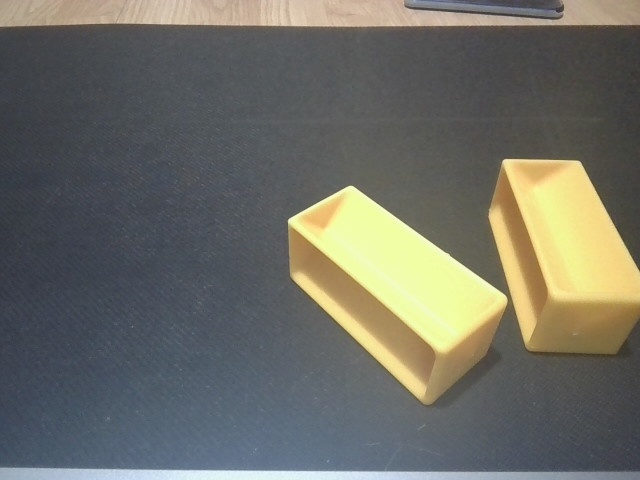YellowSample: (284, 183, 510, 409), (486, 156, 640, 361)
